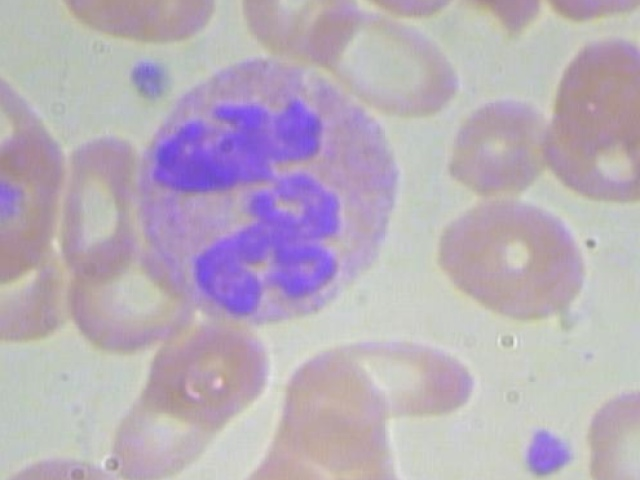Platelets: (500, 420, 581, 480), (112, 53, 172, 113), (0, 180, 26, 229)
RBC: (434, 185, 593, 329), (298, 0, 462, 123), (283, 332, 494, 417), (266, 342, 399, 459), (66, 254, 193, 366), (442, 88, 560, 192), (53, 132, 138, 276), (549, 32, 640, 136), (242, 0, 366, 70), (576, 377, 640, 480), (49, 0, 161, 34)
WBC: (138, 54, 395, 323)
